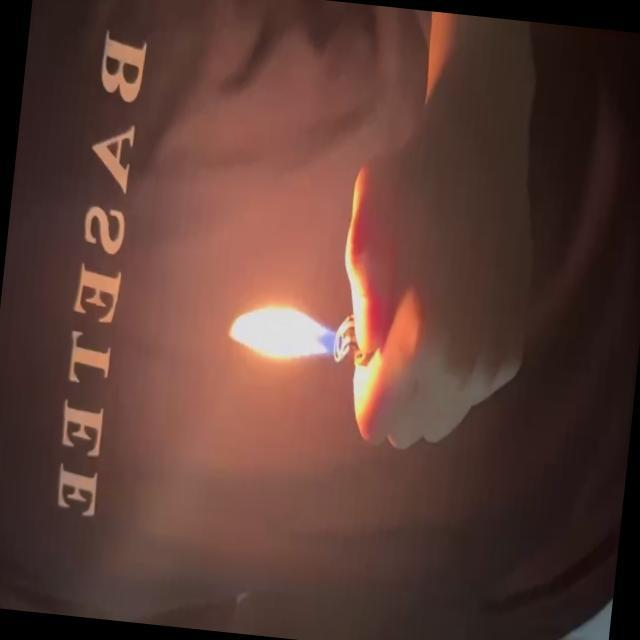Fire: (225, 299, 347, 379)
